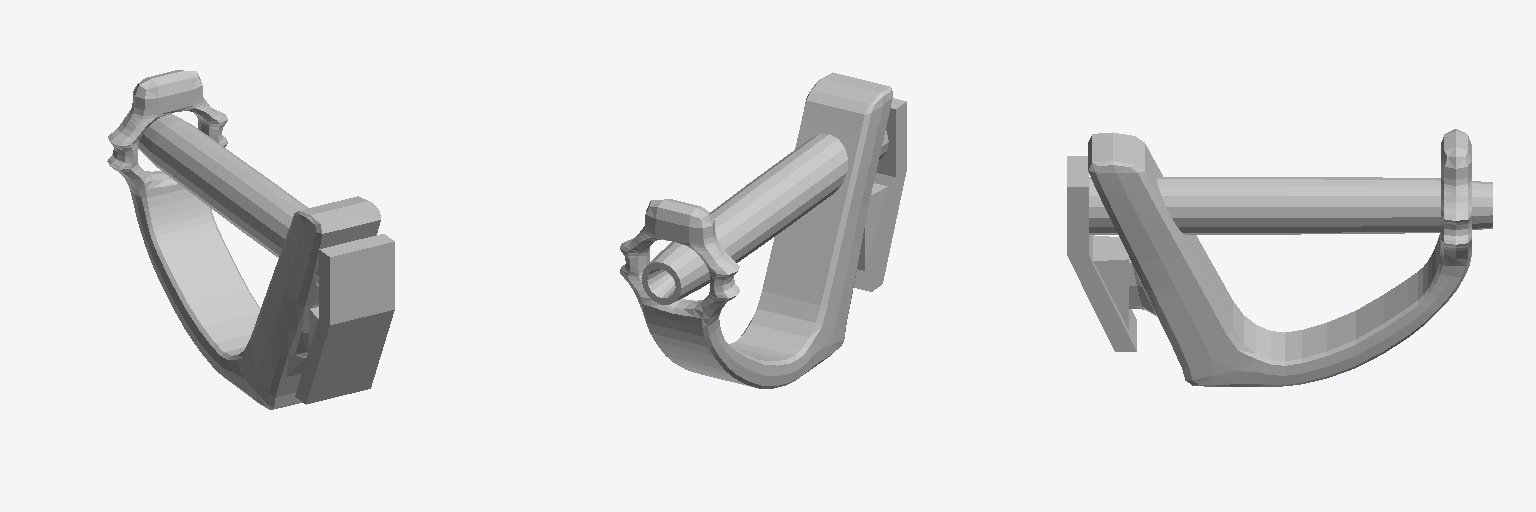
File: barrel_ornate.obj
3 views of the same model, side by side, from view 1: azimuth 30°, elevation 25°; view 2: azimuth 150°, elevation 25°; view 3: azimuth 270°, elevation 25° (orthographic).
Visible parts, largest first — view 1: Barrel.000_Cube.000, Action_Base_Connect_Plane, Barrel.001_Cube.001; view 2: Barrel.000_Cube.000, Barrel.001_Cube.001, Action_Base_Connect_Plane; view 3: Barrel.000_Cube.000, Barrel.001_Cube.001, Action_Base_Connect_Plane.
Part boxes in pixels (x1,y1,x2,y2): Barrel.000_Cube.000: (107,70,380,409); Action_Base_Connect_Plane: (295,234,394,404); Barrel.001_Cube.001: (138,114,318,286); Barrel.000_Cube.000: (620,72,892,388); Barrel.001_Cube.001: (641,131,888,304); Action_Base_Connect_Plane: (854,98,906,291); Barrel.000_Cube.000: (1088,129,1471,386); Barrel.001_Cube.001: (1089,177,1492,234); Action_Base_Connect_Plane: (1067,156,1136,351).
Size of the model in its own units: 3.57 by 6.88 by 11.35.